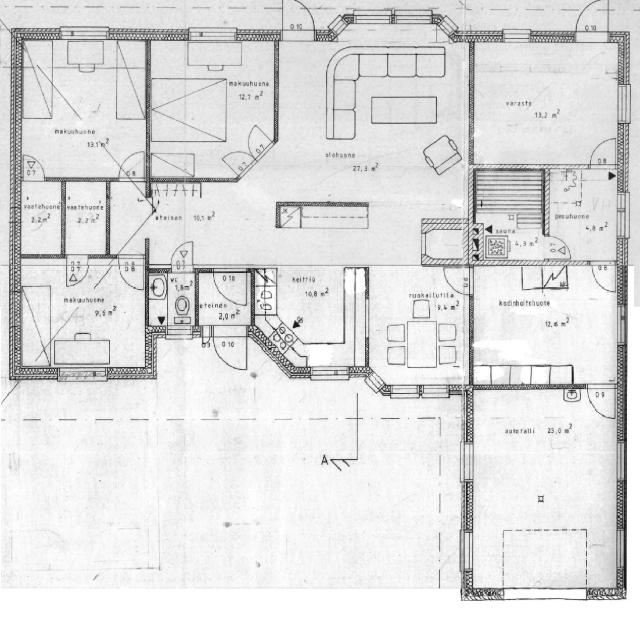door: (210, 268, 250, 308), (573, 0, 610, 43), (281, 0, 315, 42), (586, 132, 620, 172), (584, 383, 619, 421), (117, 149, 150, 188), (329, 48, 362, 82), (588, 260, 619, 294), (582, 46, 616, 77), (116, 257, 146, 292), (542, 230, 574, 262), (441, 266, 472, 295), (20, 152, 47, 184), (65, 254, 90, 287)
window: (502, 586, 592, 602), (345, 6, 403, 27), (186, 26, 240, 46), (57, 24, 111, 44), (612, 79, 634, 128), (390, 5, 434, 28), (304, 362, 350, 383), (614, 301, 631, 352), (457, 440, 477, 483), (612, 438, 630, 485), (457, 530, 476, 574), (612, 201, 631, 241), (501, 26, 534, 45)
zone: (464, 384, 626, 593), (326, 44, 465, 210), (470, 39, 623, 170), (20, 34, 149, 180), (147, 38, 277, 181), (470, 268, 622, 387), (18, 258, 147, 378), (366, 263, 469, 395), (251, 265, 370, 371), (146, 178, 244, 269), (543, 169, 621, 261), (470, 166, 546, 260), (64, 180, 108, 258), (197, 273, 252, 335), (146, 270, 196, 336), (105, 181, 148, 256), (22, 178, 62, 256), (55, 352, 111, 385), (574, 1, 612, 45), (210, 331, 248, 372), (0, 258, 12, 373)
